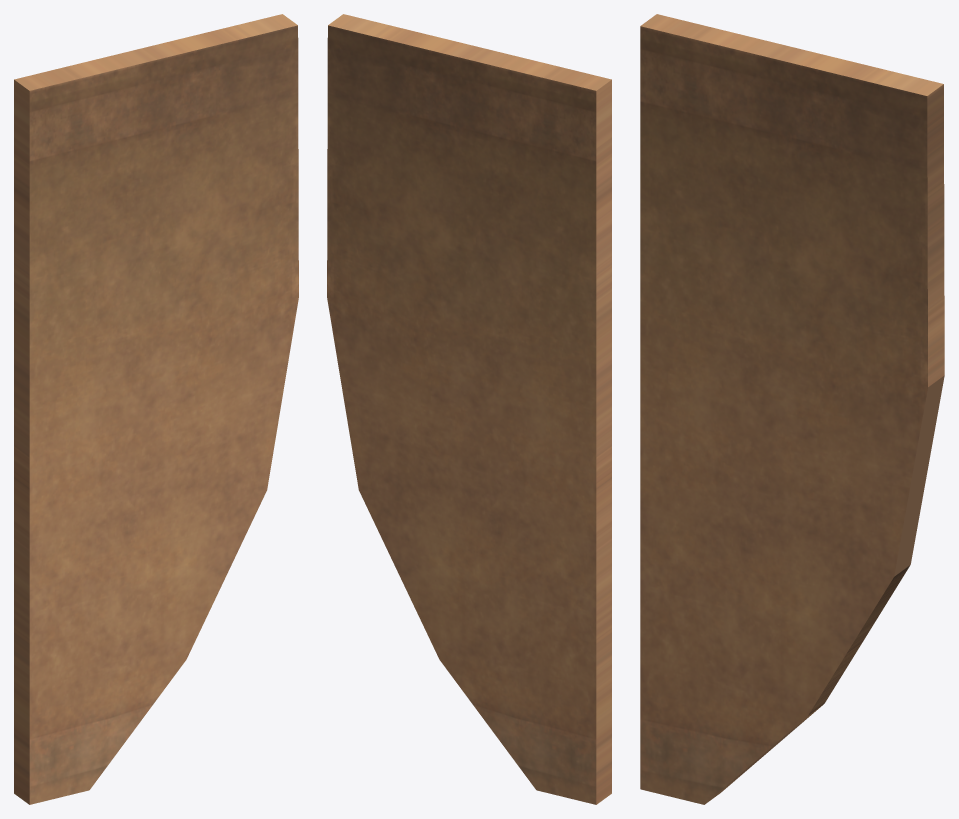
The model's file is Wall_1_D_Crop.fbx.
3 renders of one model, left to right at view 1: azimuth 30°, elevation 25°; view 2: azimuth 150°, elevation 25°; view 3: azimuth 330°, elevation 25°, orthographic. The views are drawn at different scales.
Parts seen in each view (by area): view 1: Wall_1_D_Crop; view 2: Wall_1_D_Crop; view 3: Wall_1_D_Crop.
Boxes of the visible parts, x1,y1,x2,y2 form: Wall_1_D_Crop: (14,14,298,804); Wall_1_D_Crop: (327,14,611,804); Wall_1_D_Crop: (640,14,944,804).
Size of the model in its own units: 1 by 2.53 by 0.1.
